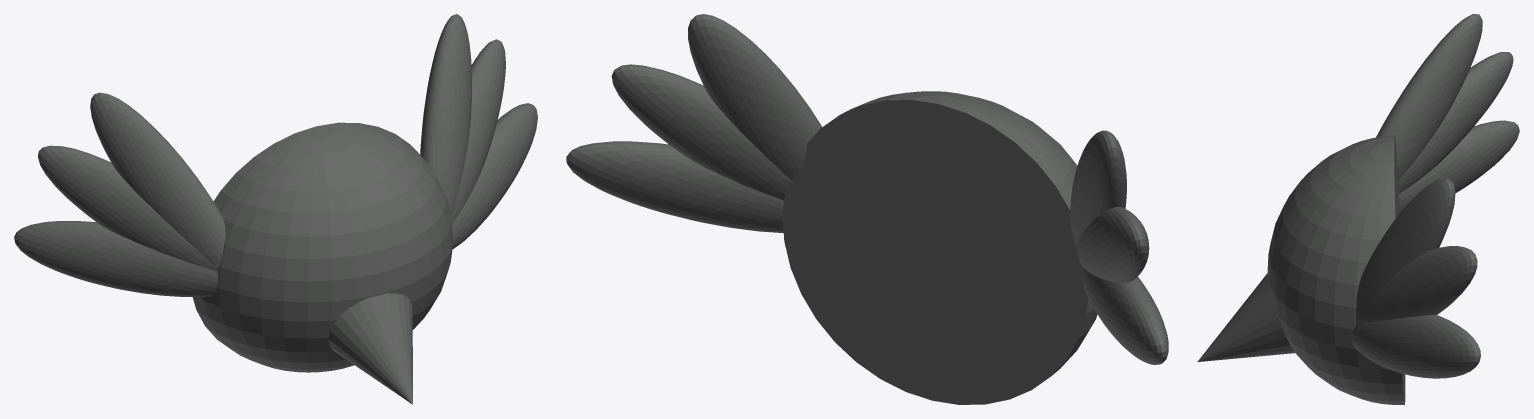
Rendered from BirdMask.fbx.
The picture shows the model from 3 angles, left to right: view 1: azimuth 30°, elevation 25°; view 2: azimuth 150°, elevation 25°; view 3: azimuth 270°, elevation 25°; orthographic projection. The views are drawn at different scales.
Visible parts, largest first — view 1: node_id6 (×2); view 2: node_id6; view 3: node_id6 (×2).
Boxes of the visible parts, x1,y1,x2,y2 form: node_id6 (×2): (14,14,537,404); node_id6: (566,14,1168,404); node_id6 (×2): (1197,14,1519,404).
Size of the model in its own units: 0.512 by 0.2796 by 0.2793.
2 materials, 2 textured.
